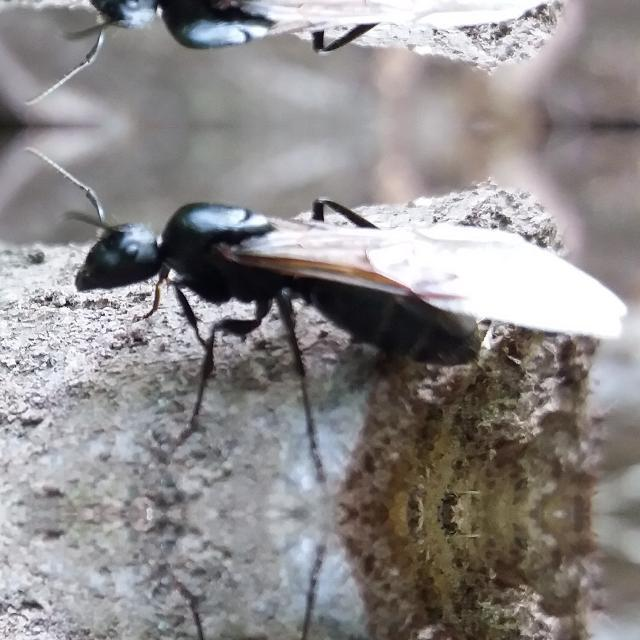Camponotus: (38, 148, 546, 424), (38, 0, 546, 102)
